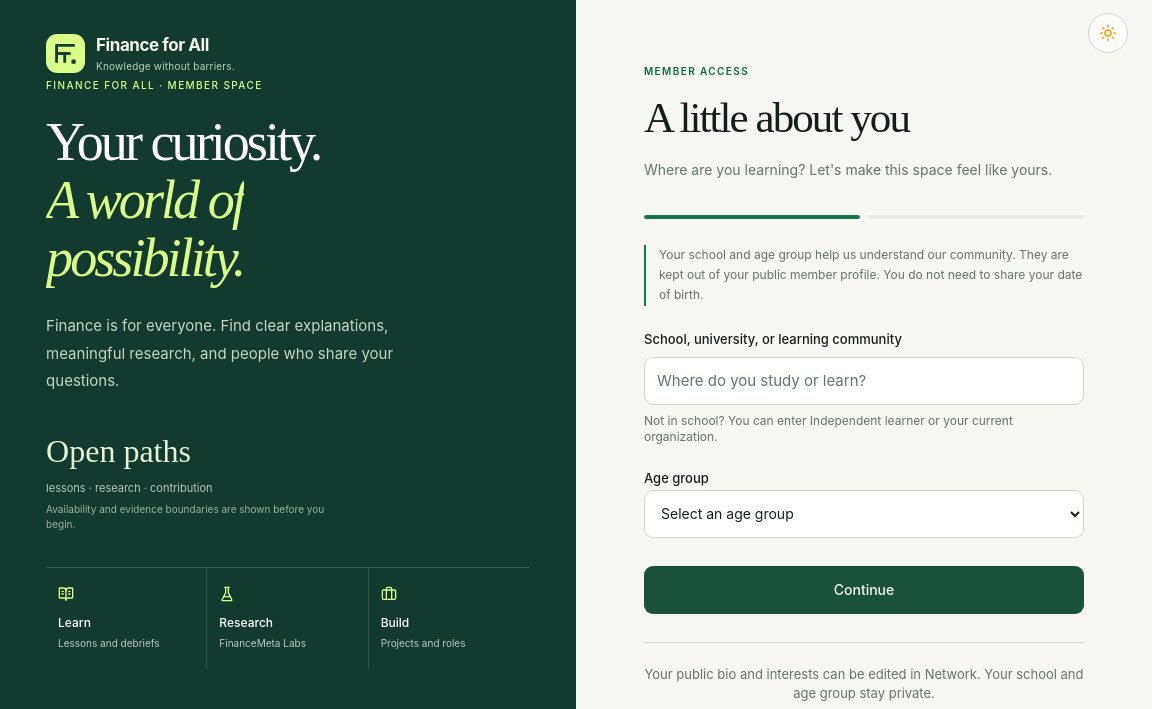
Test: two-stage member onboarding › preserves entered education when moving back without saving early
Type " Example School " into the field labelled "School, university, or learning community" at (864, 381), box [644,357,1084,405]
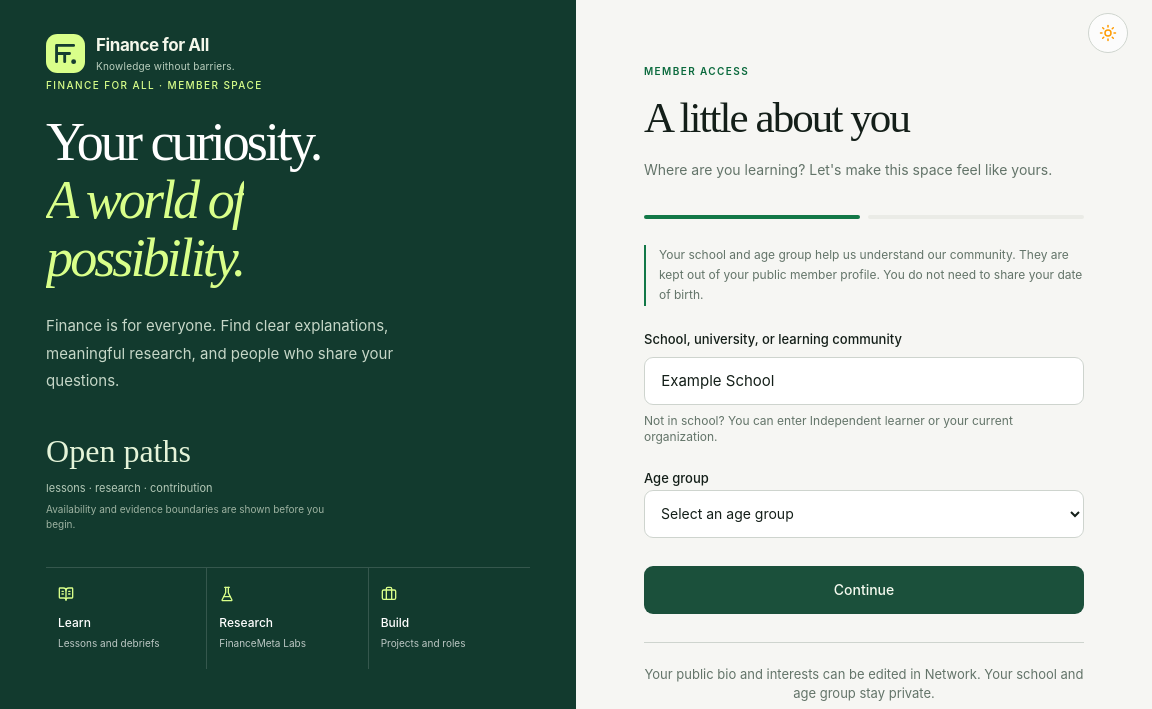
Select "Prefer not to say" in the dropdown labelled "Age group" at (864, 514), box [644,490,1084,538]
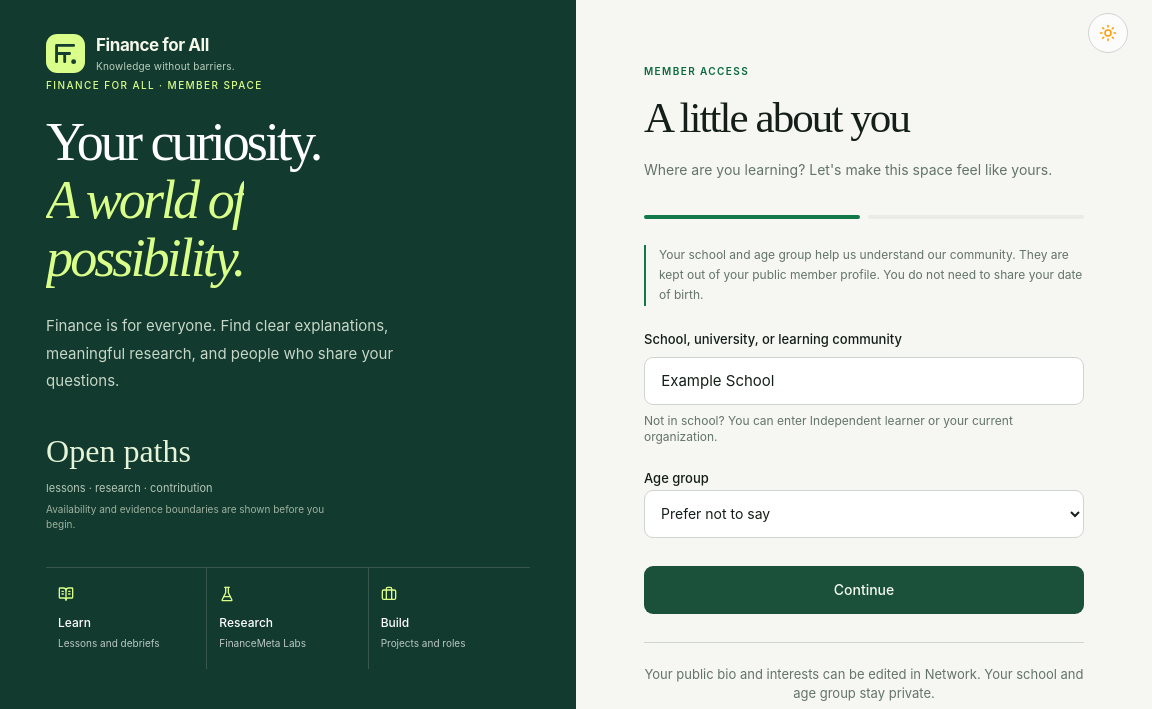
Click the button "Continue" at (864, 590), box [644,566,1084,614]
(page scrolled)
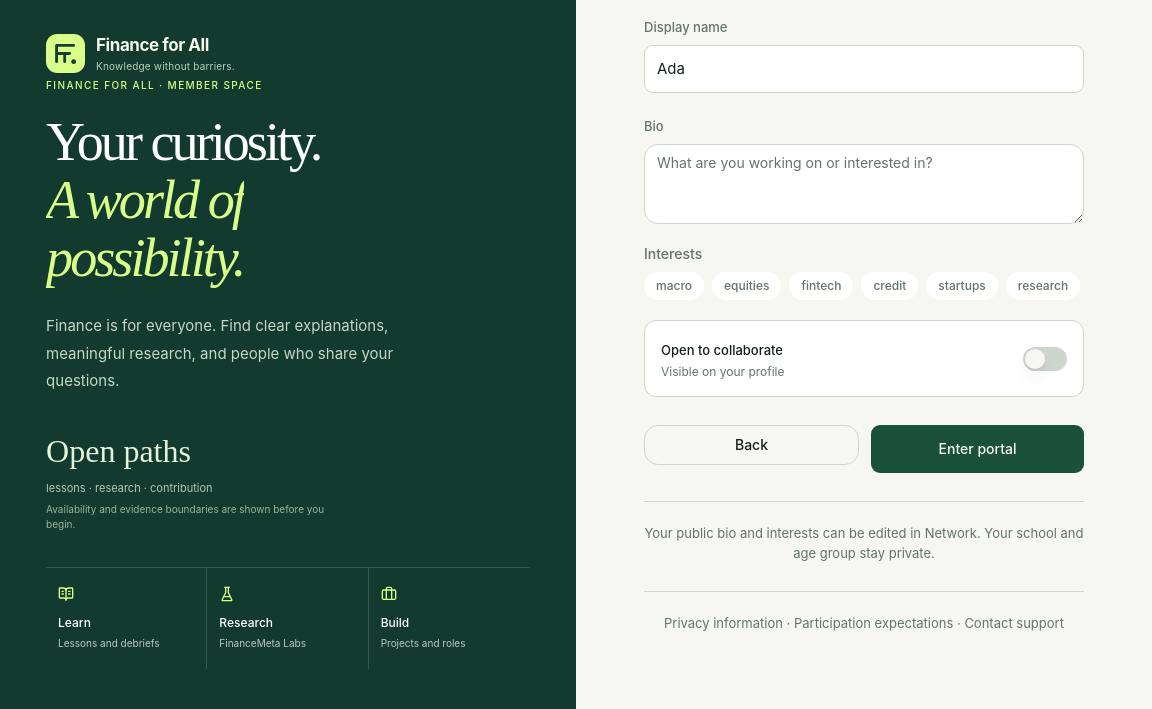
Click the button "Back" at (752, 445), box [644,425,859,465]
(page scrolled)
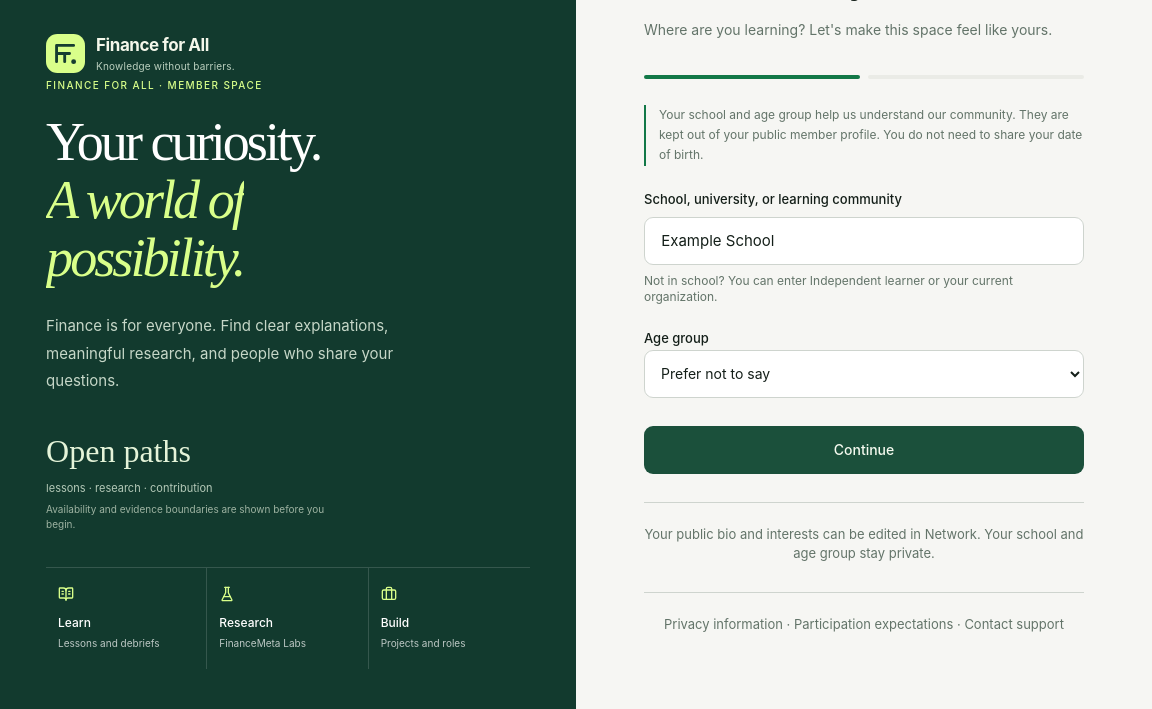
Now the field labelled "School, university, or learning community" holds " Example School ", box [644,217,1084,265]
Now the dropdown labelled "Age group" shows "Prefer not to say", box [644,350,1084,398]
